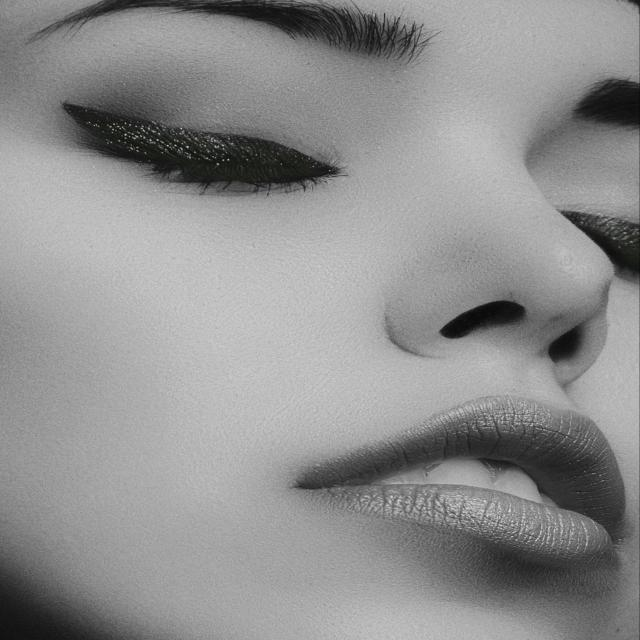front: (50, 20, 640, 639)
